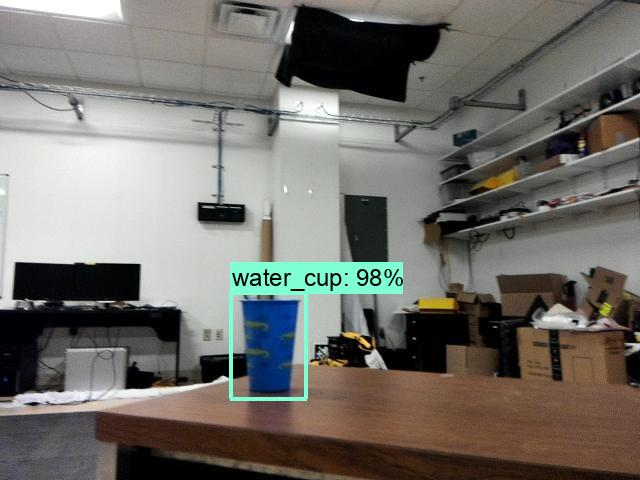water_cup: (223, 293, 308, 398)
